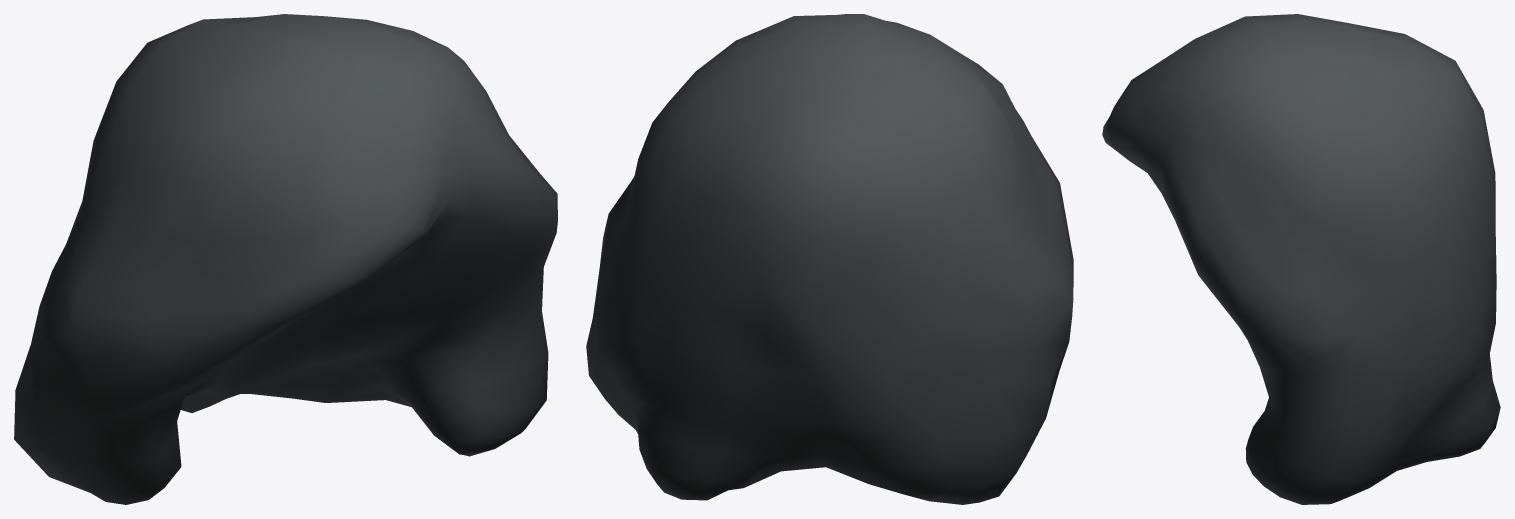
Rendered from Hairstyle_Female_04.glb.
3 renders of one model, left to right at view 1: azimuth 30°, elevation 25°; view 2: azimuth 150°, elevation 25°; view 3: azimuth 270°, elevation 25°, orthographic. The views are drawn at different scales.
Visible parts, largest first — view 1: Hairstyle_Female_04; view 2: Hairstyle_Female_04; view 3: Hairstyle_Female_04.
Part boxes in pixels (x1=…): Hairstyle_Female_04: x1=14, y1=14, x2=557, y2=504; Hairstyle_Female_04: x1=586, y1=14, x2=1073, y2=504; Hairstyle_Female_04: x1=1102, y1=14, x2=1500, y2=504.
Bounding box in the file's own units: 0.7339 × 0.6327 × 0.5867.
1 material, 1 textured.
